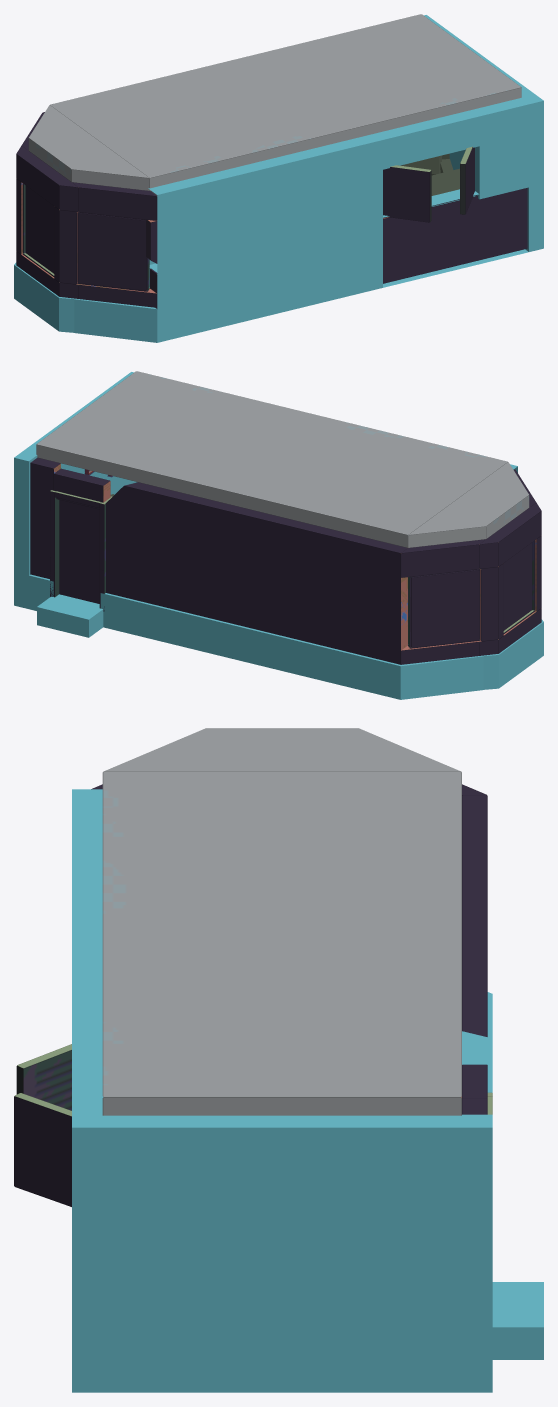
Rendered from broken_room_Bedroom.fbx.
The picture shows the model from 3 angles, top to bottom: view 1: azimuth 30°, elevation 25°; view 2: azimuth 150°, elevation 25°; view 3: azimuth 270°, elevation 25°; orthographic projection. The views are drawn at different scales.
Visible parts, largest first — view 1: map border, cuboid_3, wall behind_20, cuboid_4, cuboid_8, cuboid_6, wall behind_10, wall behind_11, cuboid_7, wall behind_18, wall behind_14, wall behind_13 (+7 smaller); view 2: cuboid_3, wall behind_7, map border, cuboid_4, cuboid_9, door, wall behind_8, wall behind_9, wall behind_11, cuboid_7, frames_9, wall behind_19 (+6 smaller); view 3: map border, cuboid_3, cuboid_4, wall behind_7, cuboid_5, cuboid_6, wall behind_12.
Boxes of the visible parts, x1=… form: map border: x1=14, y1=15, x2=543, y2=342; cuboid_3: x1=50, y1=14, x2=521, y2=190; wall behind_20: x1=150, y1=188, x2=527, y2=308; cuboid_4: x1=28, y1=105, x2=149, y2=190; cuboid_8: x1=78, y1=212, x2=146, y2=290; cuboid_6: x1=383, y1=165, x2=431, y2=222; wall behind_10: x1=72, y1=182, x2=156, y2=220; wall behind_11: x1=16, y1=145, x2=78, y2=211; cuboid_7: x1=25, y1=185, x2=54, y2=273; wall behind_18: x1=54, y1=206, x2=77, y2=284; wall behind_14: x1=78, y1=284, x2=156, y2=308; wall behind_13: x1=16, y1=251, x2=78, y2=298; cuboid_3: x1=36, y1=371, x2=507, y2=547; wall behind_7: x1=106, y1=482, x2=407, y2=664; map border: x1=14, y1=372, x2=543, y2=699; cuboid_4: x1=408, y1=462, x2=529, y2=547; cuboid_9: x1=411, y1=569, x2=479, y2=647; door: x1=59, y1=500, x2=99, y2=603; wall behind_8: x1=30, y1=457, x2=60, y2=578; wall behind_9: x1=401, y1=539, x2=485, y2=577; wall behind_11: x1=479, y1=502, x2=541, y2=568; cuboid_7: x1=503, y1=542, x2=532, y2=630; frames_9: x1=50, y1=490, x2=112, y2=611; wall behind_19: x1=480, y1=563, x2=503, y2=641; map border: x1=72, y1=789, x2=543, y2=1392; cuboid_3: x1=102, y1=771, x2=461, y2=1115; cuboid_4: x1=103, y1=728, x2=461, y2=771; wall behind_7: x1=462, y1=795, x2=487, y2=1036; cuboid_5: x1=14, y1=1093, x2=71, y2=1206; cuboid_6: x1=16, y1=1044, x2=71, y2=1110; wall behind_12: x1=462, y1=1064, x2=487, y2=1098.
Bounding box in the file's own units: 2262 × 762 × 1291.
Materials: 17 (17 with a texture image).
